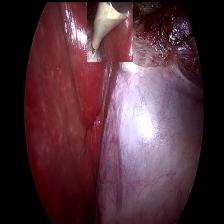Hook: (86, 0, 132, 61)
